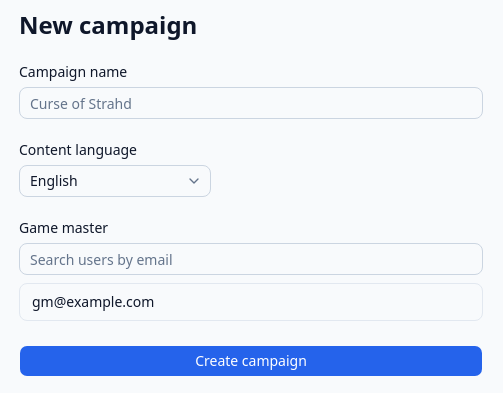
Test: CreateCampaignPage › lets the admin pick a GM from the search results
The width and height of the screenshot is (503, 393).
Type "gm" into the field labelled "Game master".
click(251, 259); type("gm")  # box left=19, top=243, right=483, bottom=275
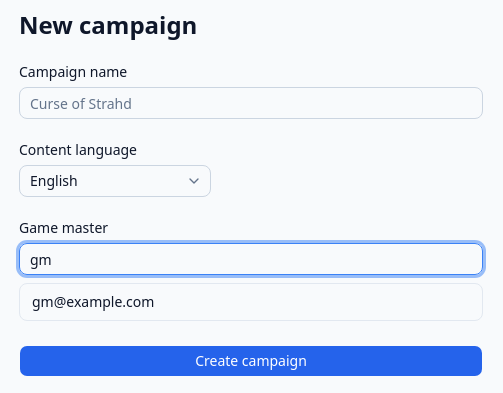
Click the button "gm@example.com".
click(93, 302)  # box left=20, top=284, right=482, bottom=320
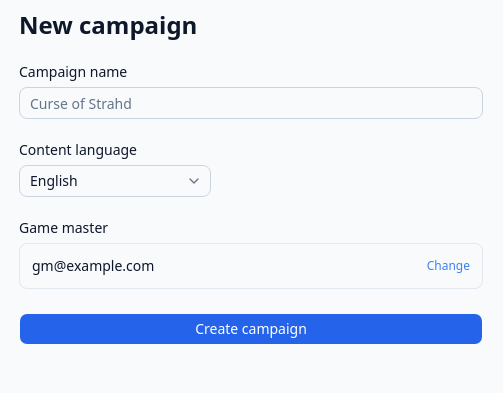
Expected: the text "gm@example.com" is shown, left=32, top=256, right=154, bottom=276
Result: the button "Change" is shown at left=427, top=258, right=470, bottom=274
